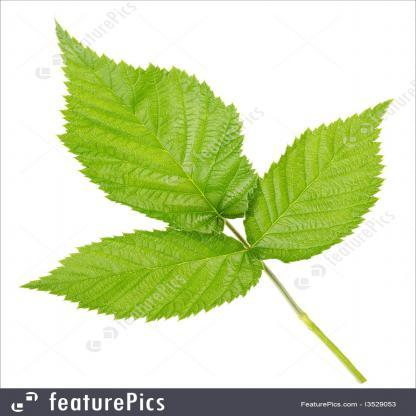Raspberry leaf: (50, 18, 260, 232), (244, 95, 398, 265), (19, 229, 262, 321)
